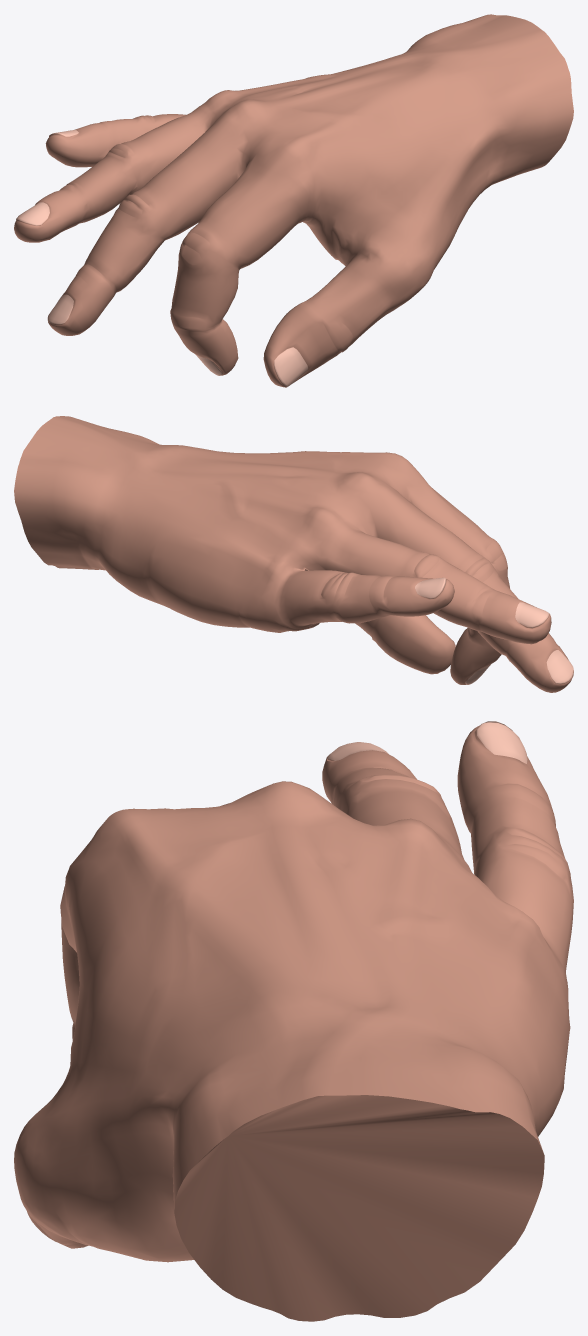
File: hand_10.obj
3 renders of one model, top to bottom at view 1: azimuth 30°, elevation 25°; view 2: azimuth 150°, elevation 25°; view 3: azimuth 270°, elevation 25°, orthographic. The views are drawn at different scales.
Parts seen in each view (by area): view 1: Figure_2; view 2: Figure_2; view 3: Figure_2.
Boxes of the visible parts, <box> form: Figure_2: <box>14,14,573,387</box>; Figure_2: <box>14,416,573,692</box>; Figure_2: <box>14,721,573,1321</box>.
Bounding box in the file's own units: 0.8568 × 0.3757 × 0.4086.
